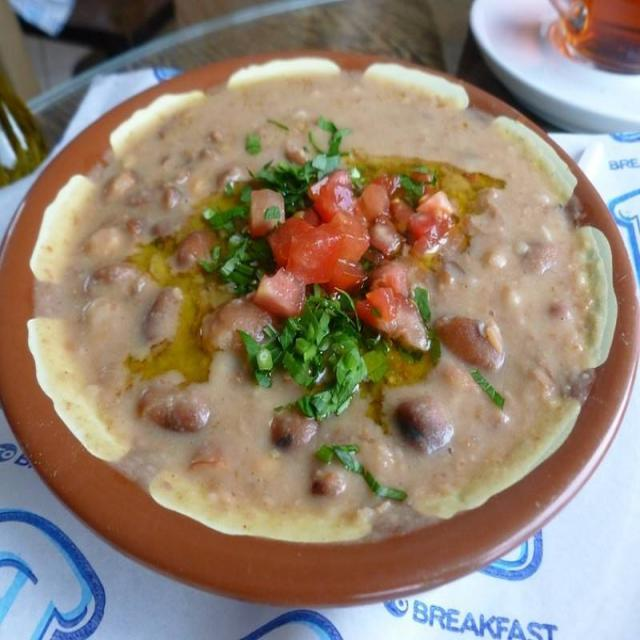fool: (34, 64, 626, 538)
